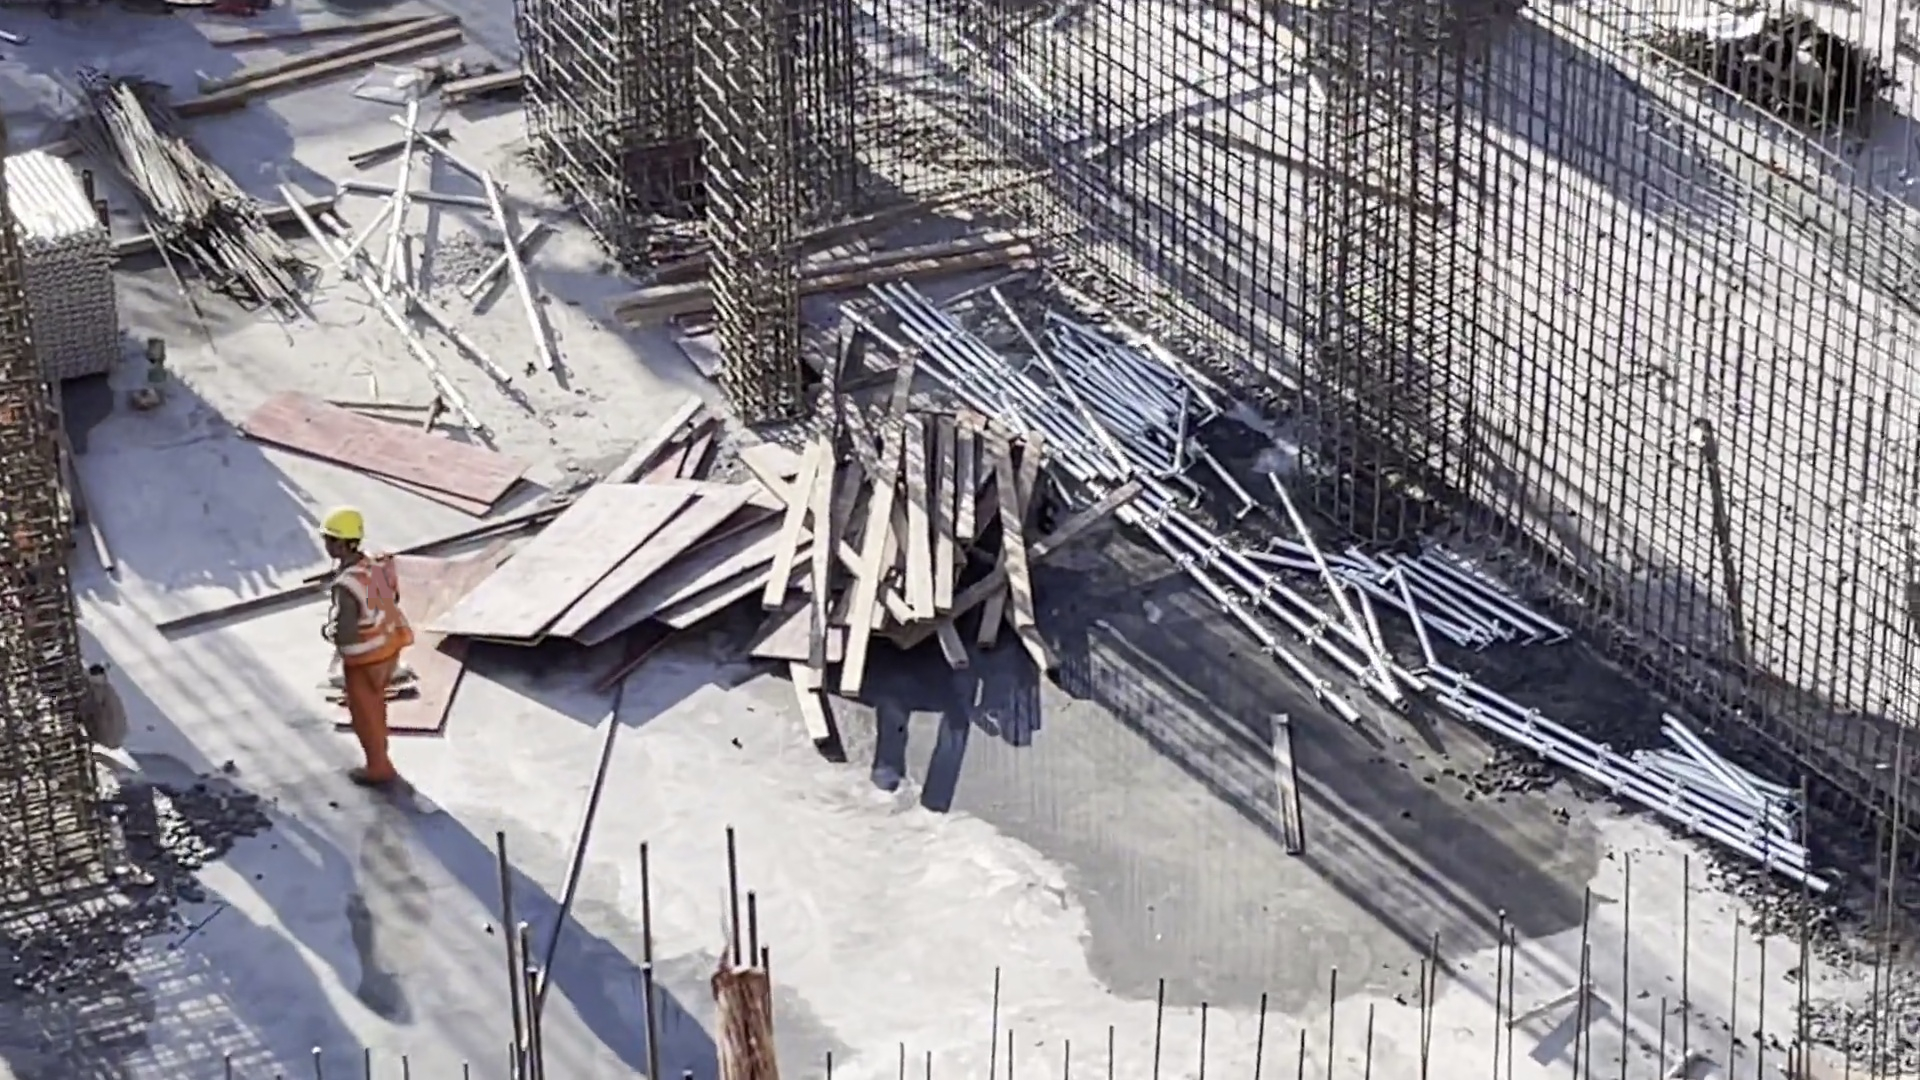helmet: (338, 506, 376, 544)
person: (304, 500, 411, 776)
rebar: (61, 50, 349, 323)
scaffold: (1, 130, 106, 379)
vest: (336, 557, 403, 671)
